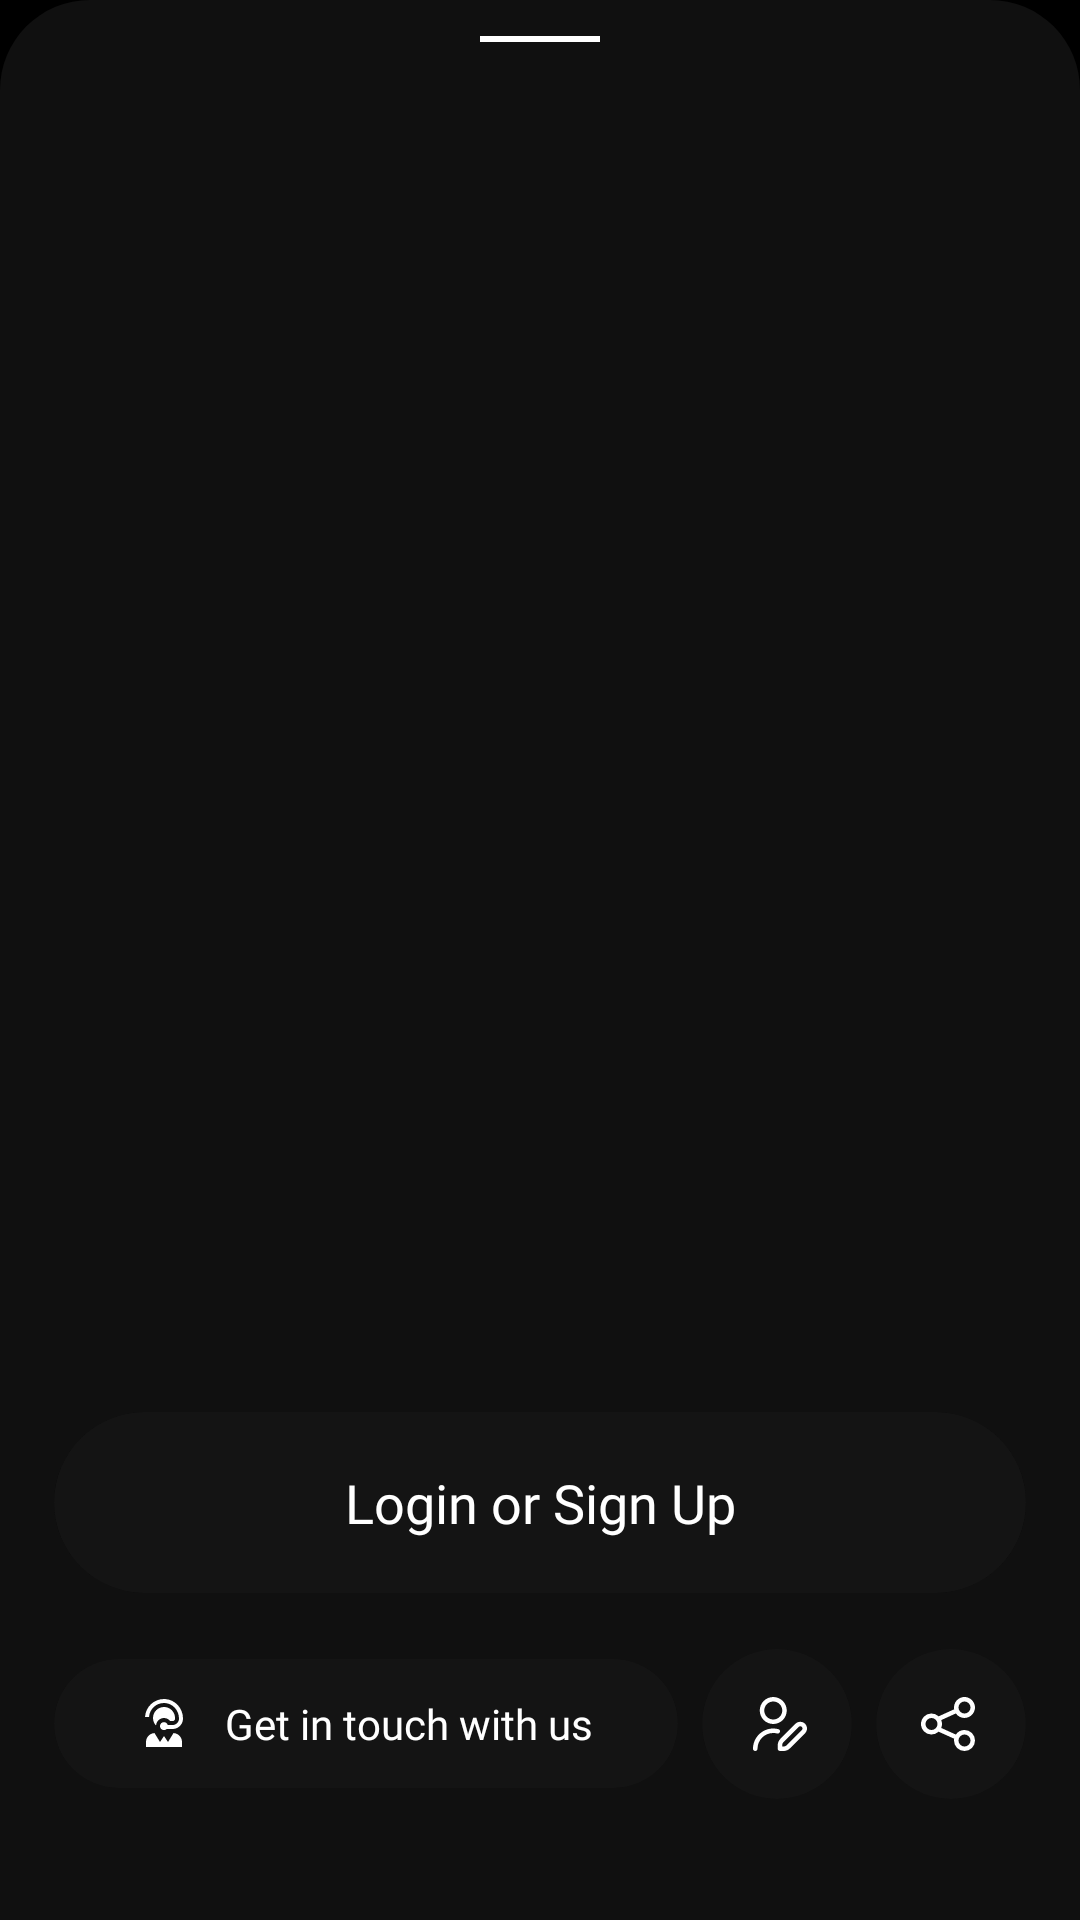

Icon click points for this 1080px×1920px phone screenshot, format point (x, y):
edit user profile: point (780, 1724)
share: point (948, 1724)
